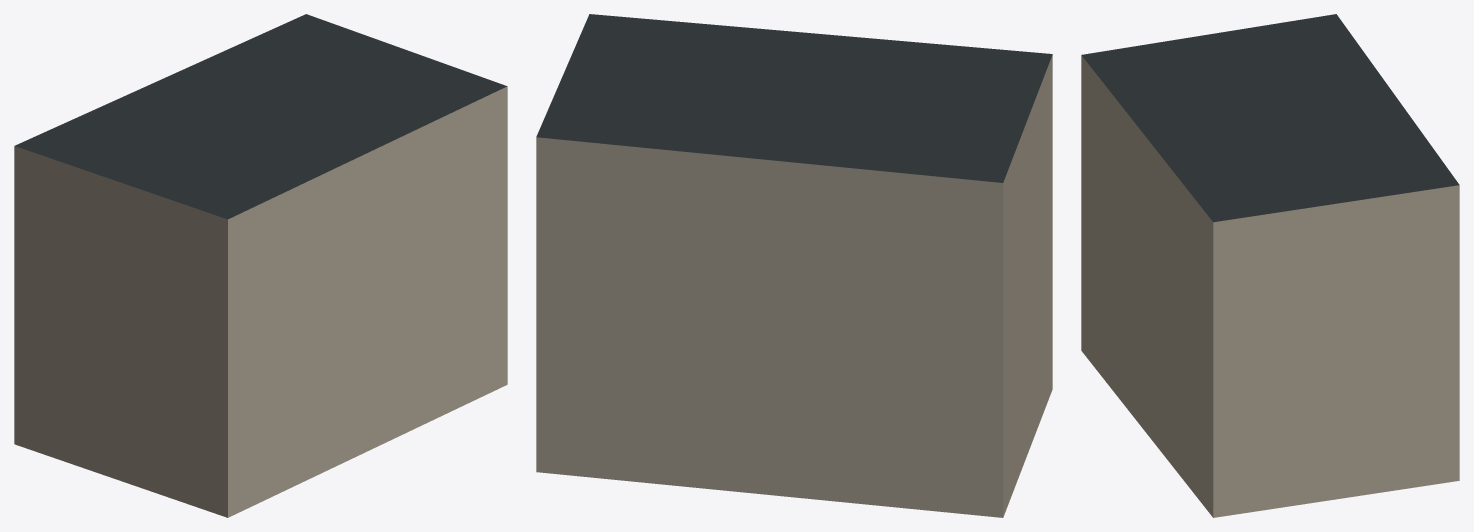
The picture shows the model from 3 angles, left to right: view 1: azimuth 30°, elevation 25°; view 2: azimuth 150°, elevation 25°; view 3: azimuth 270°, elevation 25°; orthographic projection. The views are drawn at different scales.
Visible parts, largest first — view 1: tuile; view 2: tuile; view 3: tuile.
Boxes of the visible parts, x1=… form: tuile: x1=14, y1=14, x2=507, y2=517; tuile: x1=536, y1=14, x2=1052, y2=517; tuile: x1=1081, y1=14, x2=1459, y2=517.
Bounding box in the file's own units: 5.6 × 3.71 × 4.3.
